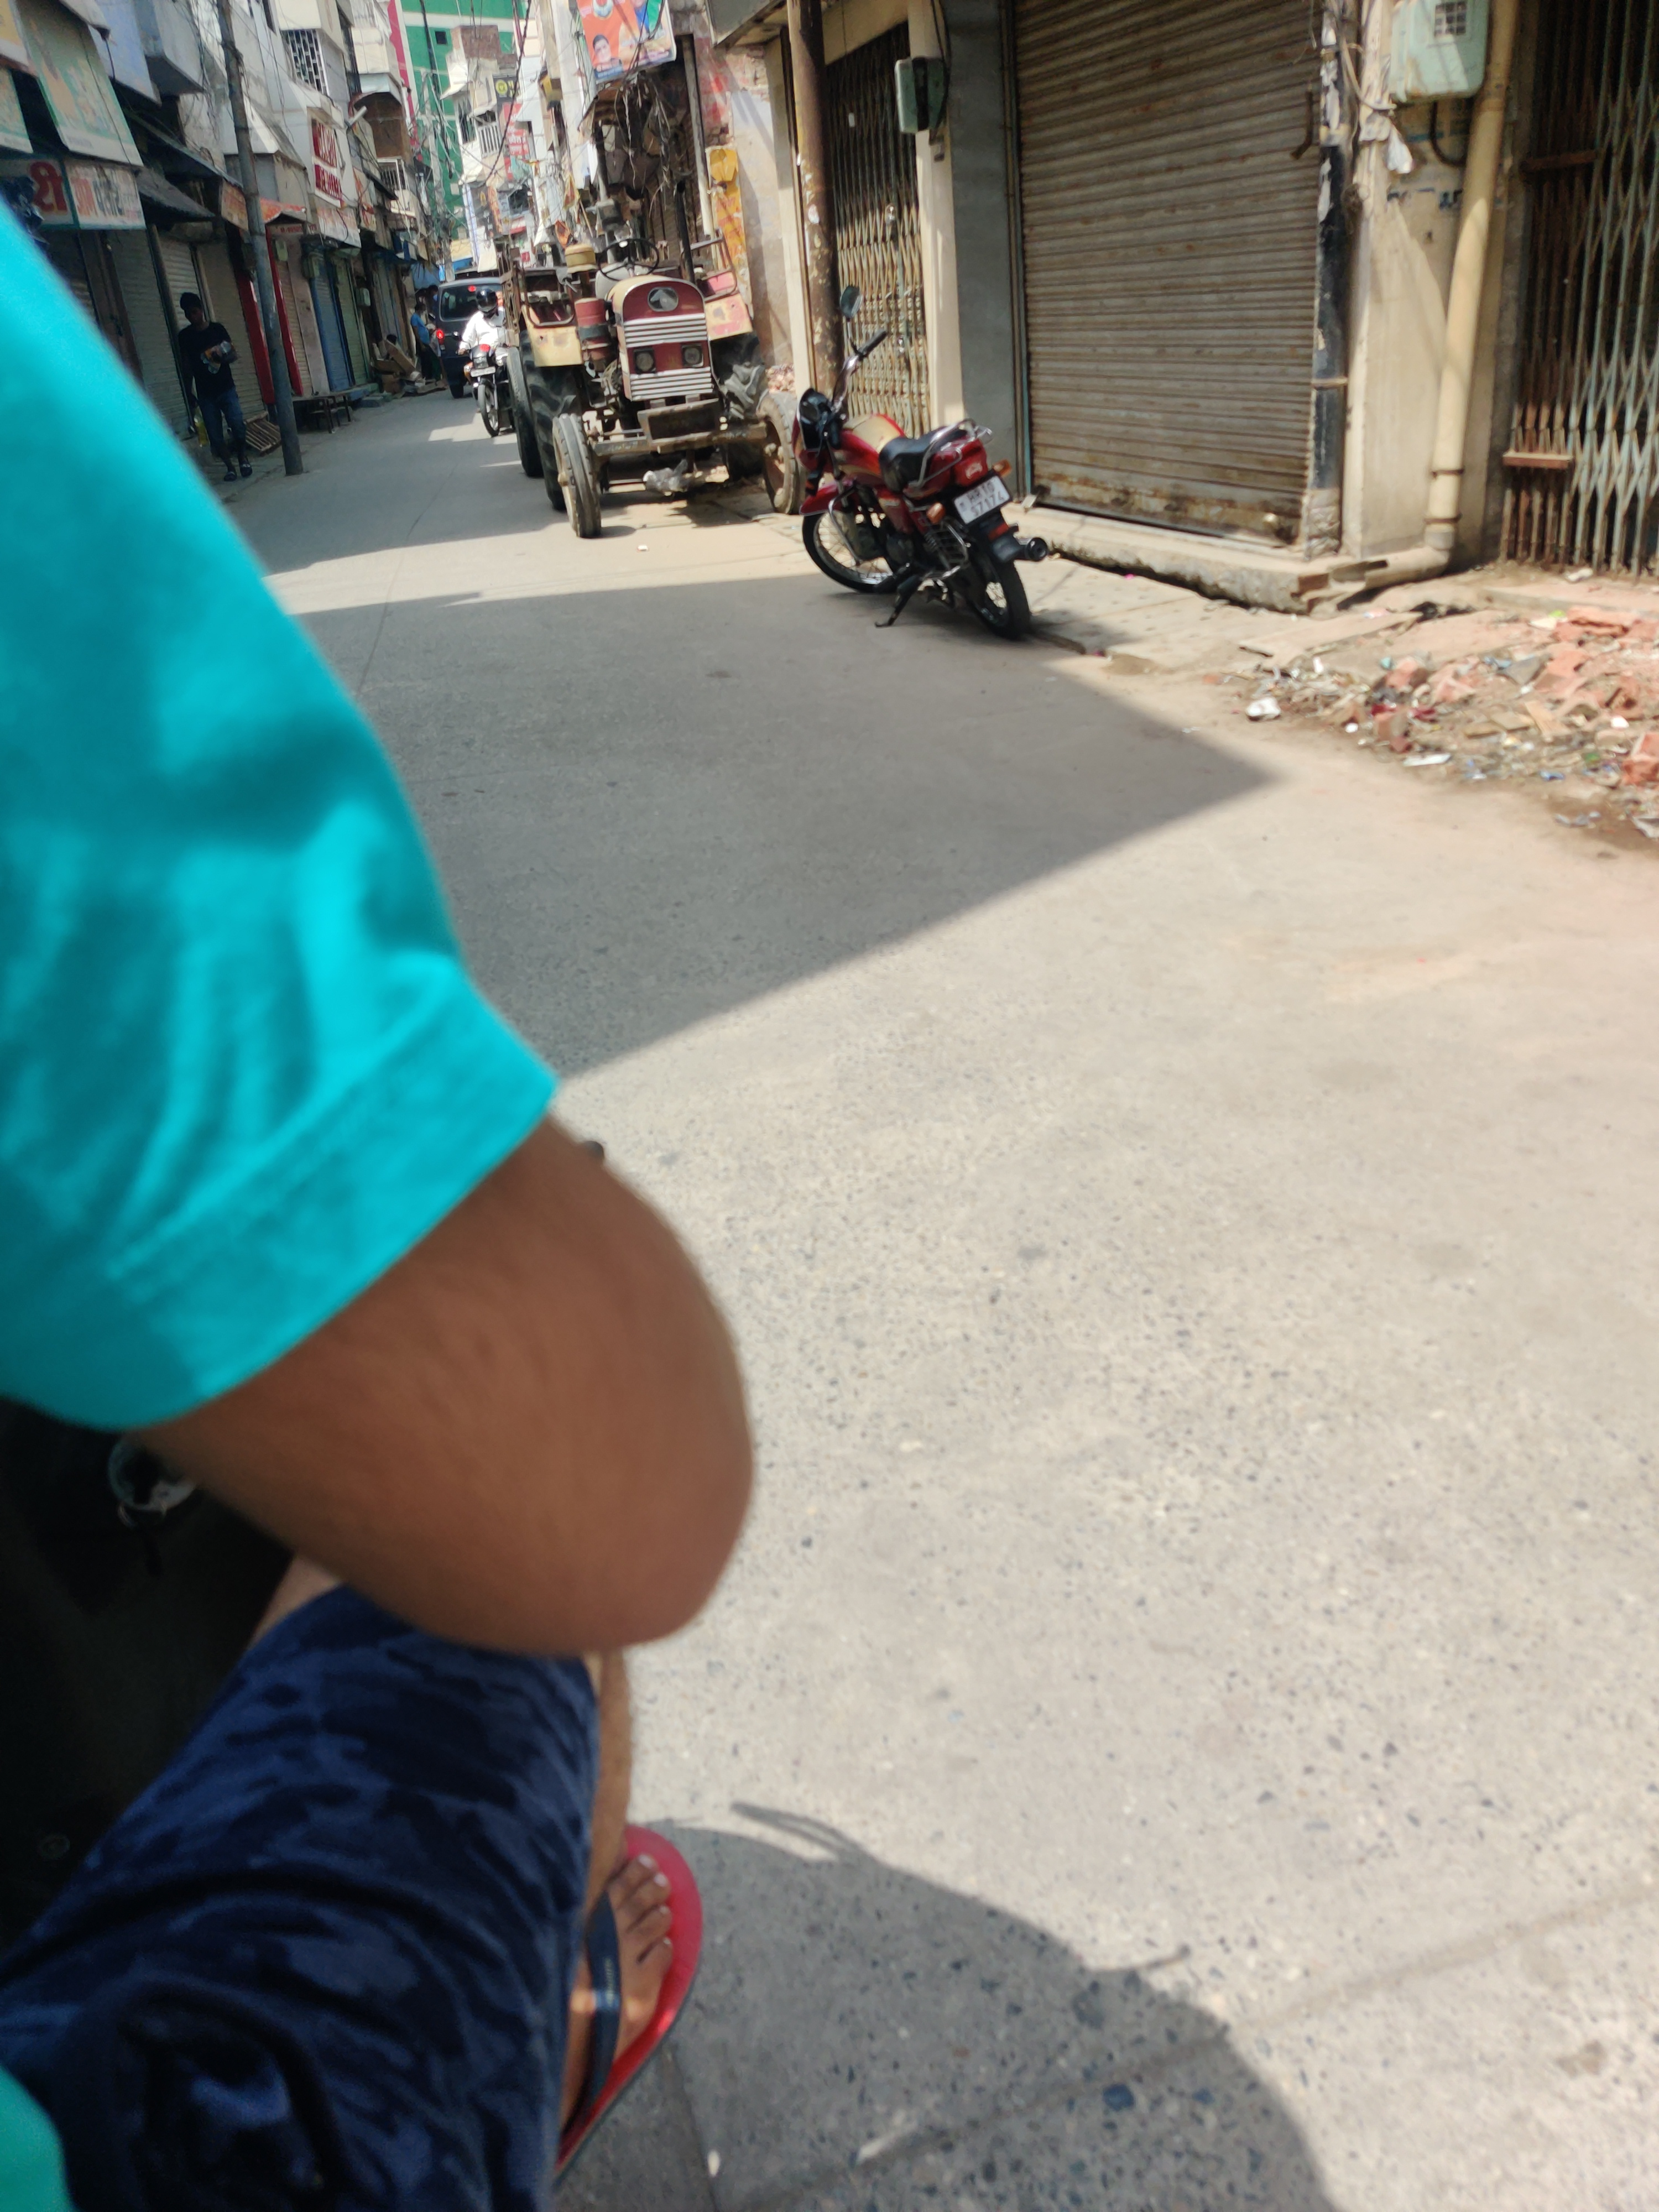tractor: (495, 176, 817, 540)
